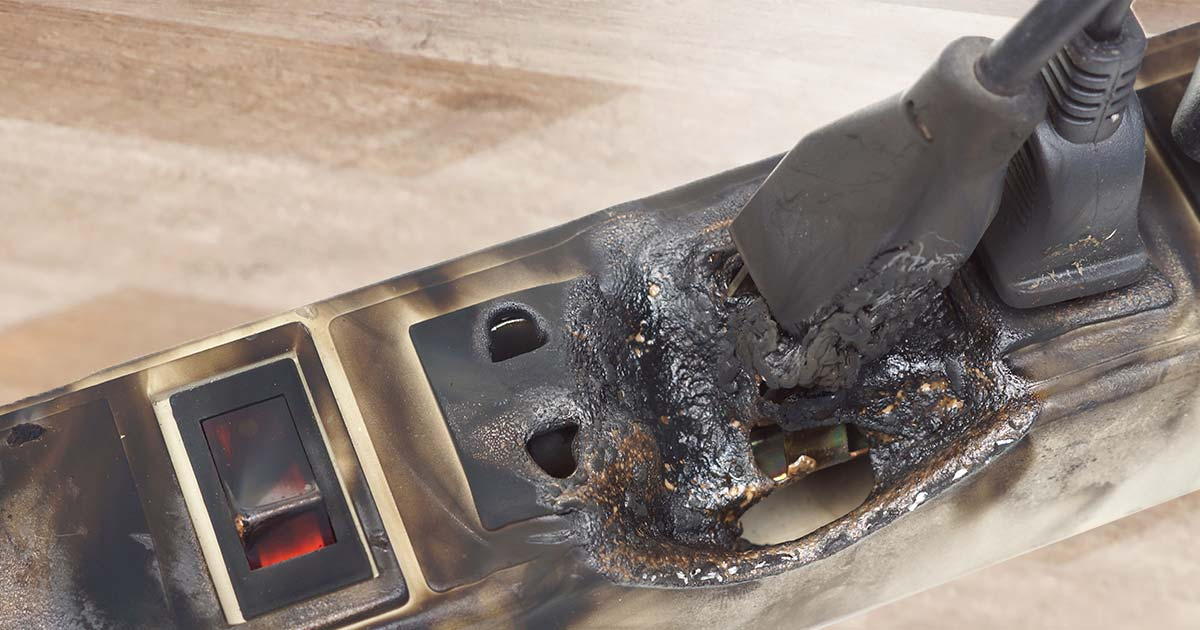Three_eye_plug: (1, 52, 1200, 630)
